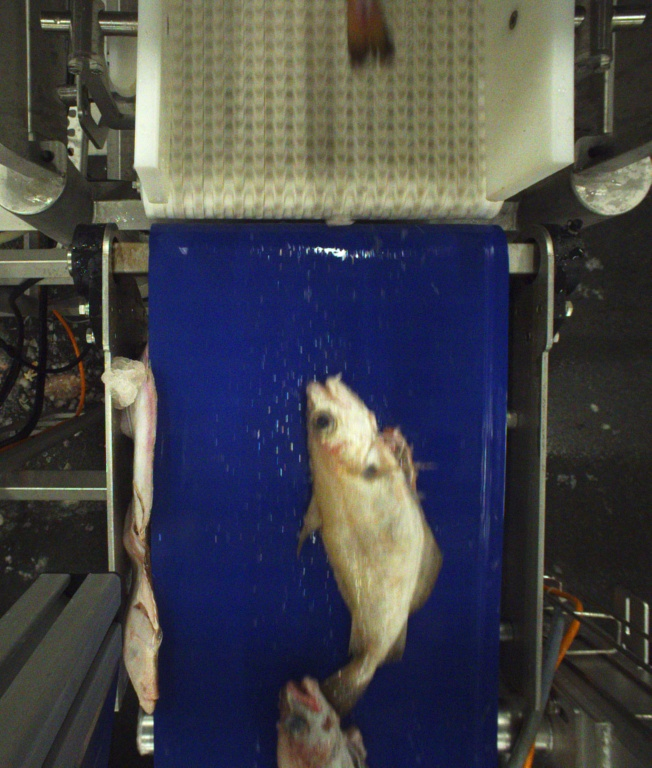BIB: (270, 681, 366, 768)
